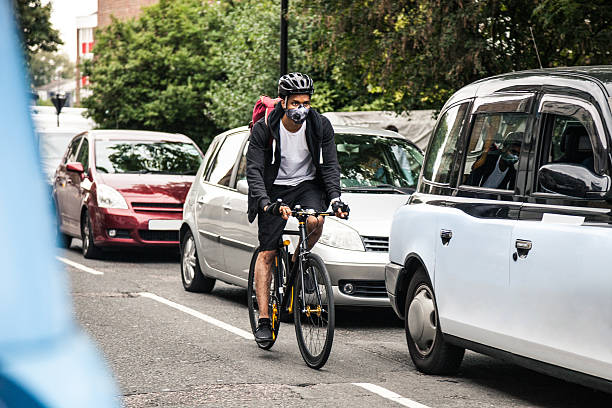car: (389, 73, 612, 386), (177, 124, 413, 308), (53, 128, 200, 259)
